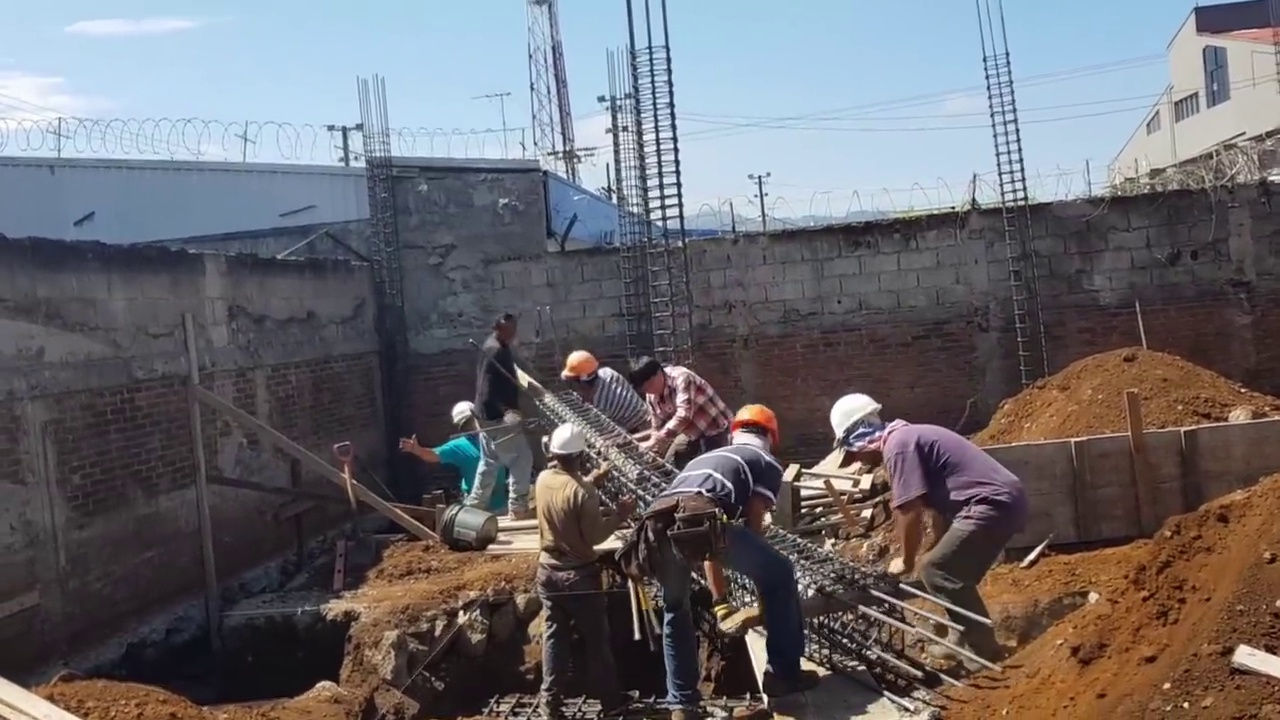helmet: (827, 396, 884, 452), (732, 405, 779, 446), (549, 423, 589, 456), (561, 349, 599, 382), (451, 402, 478, 425)
helmet-off: (628, 358, 666, 400), (489, 318, 514, 347)
helmet-on: (826, 393, 896, 470), (728, 405, 780, 457), (549, 424, 590, 476), (562, 349, 600, 395), (451, 402, 479, 440)
person: (828, 394, 1022, 662), (640, 404, 804, 720), (530, 417, 630, 716), (399, 400, 511, 505), (615, 355, 721, 462), (474, 316, 530, 509), (560, 348, 649, 431)
